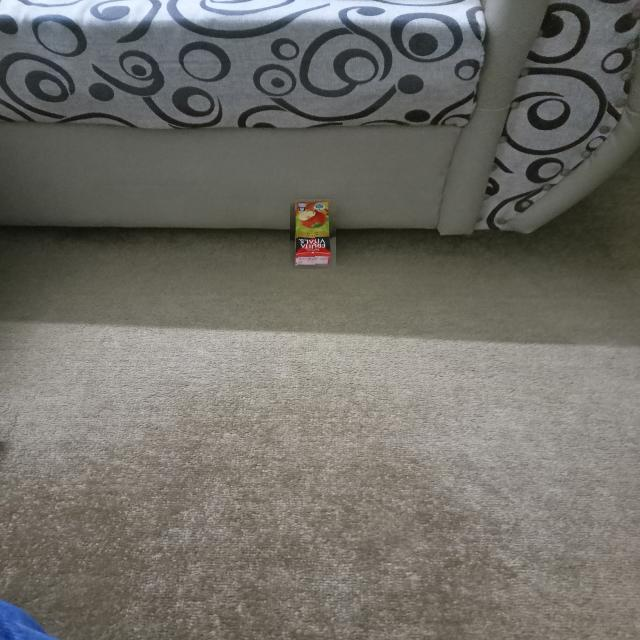Plastic: (289, 199, 336, 269)
